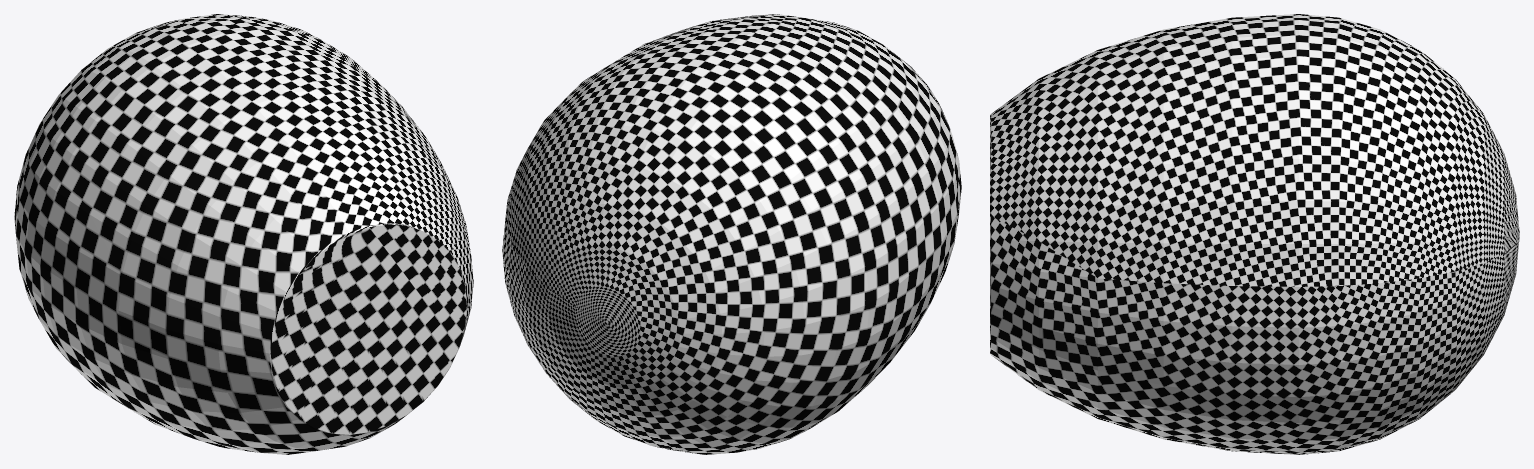
Rendered from egg-2.obj.
3 renders of one model, left to right at view 1: azimuth 30°, elevation 25°; view 2: azimuth 150°, elevation 25°; view 3: azimuth 270°, elevation 25°, orthographic. The views are drawn at different scales.
Bounding box in the file's own units: 45 × 45 × 54.
